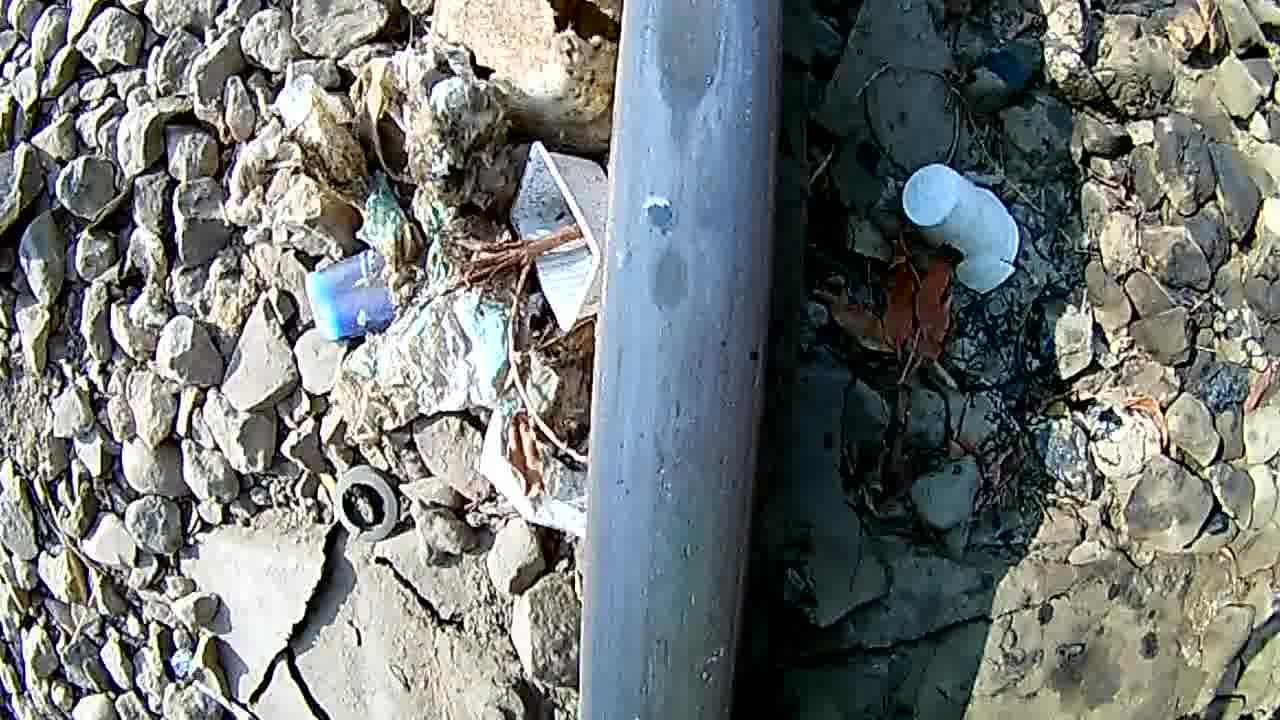bolt_missing: (620, 0, 739, 342)
